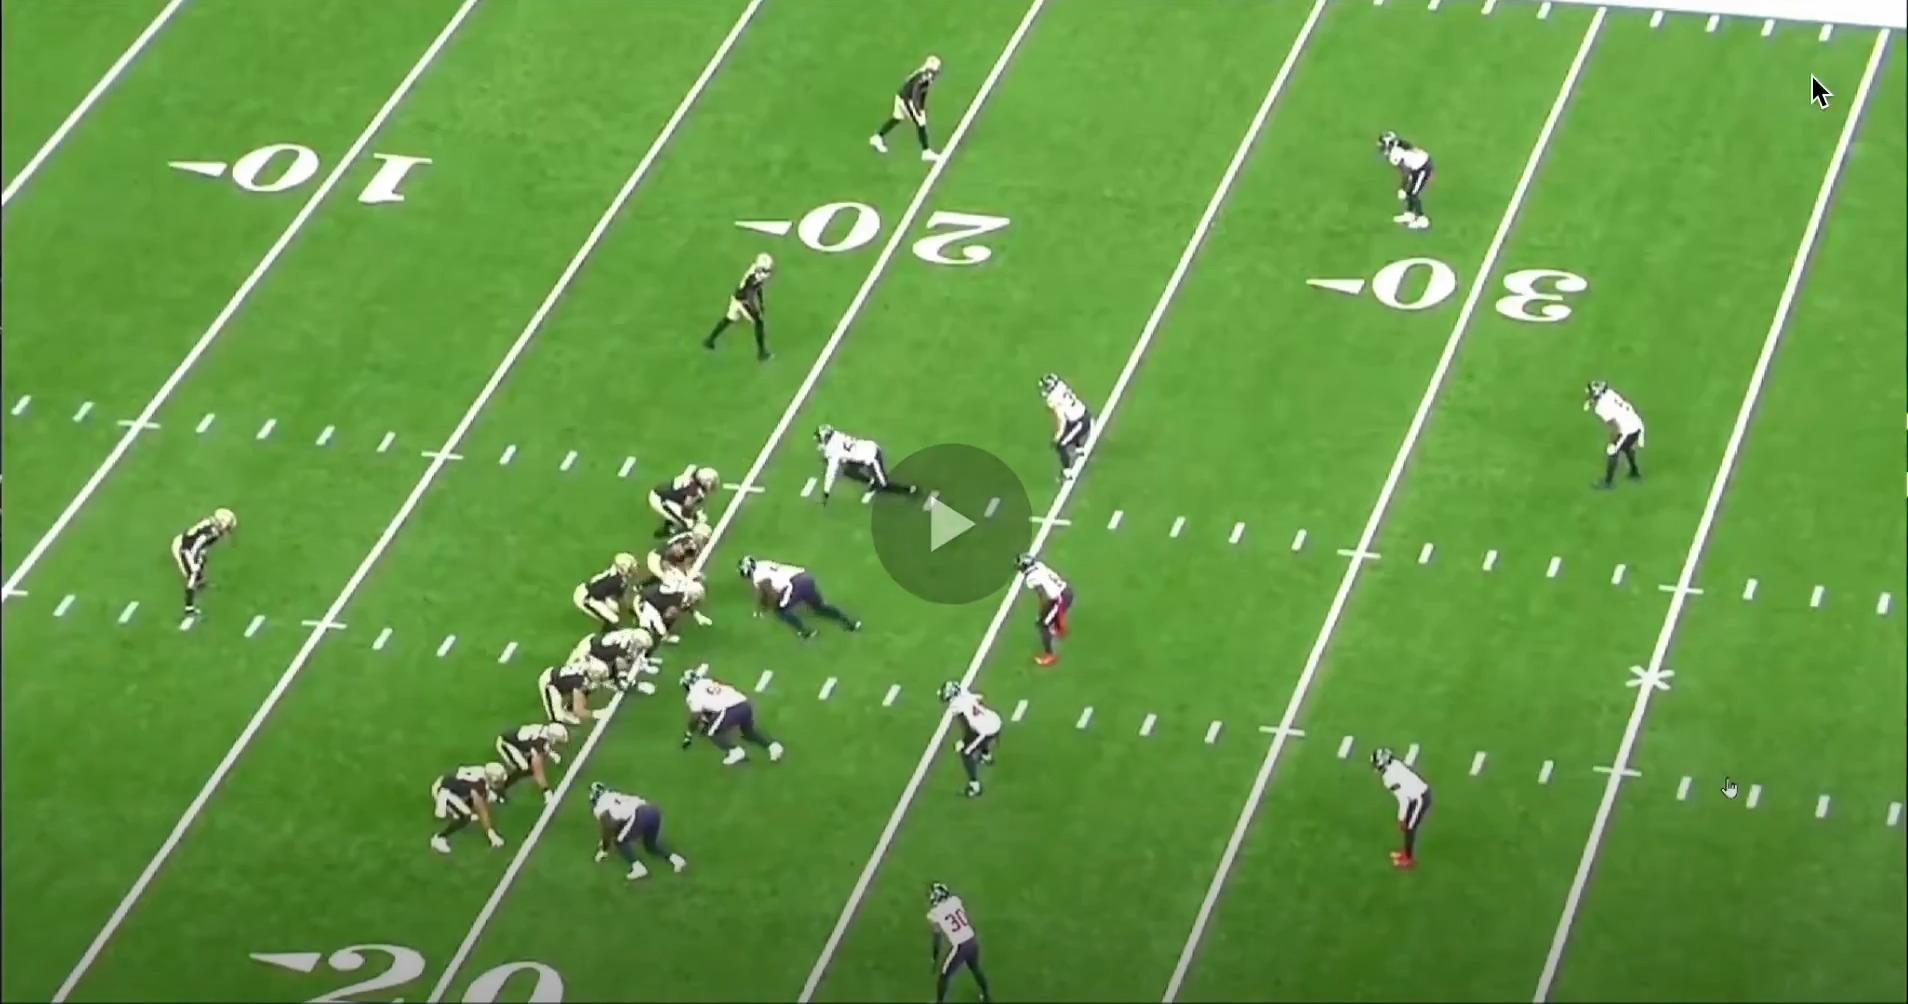player: (677, 668, 794, 774), (735, 553, 867, 644), (579, 780, 687, 890), (857, 50, 943, 168), (806, 420, 921, 508), (695, 250, 779, 370), (914, 882, 993, 1004), (1368, 747, 1437, 878), (419, 758, 504, 859), (162, 509, 234, 627), (648, 525, 724, 632), (942, 673, 1007, 798), (1575, 375, 1642, 496), (1014, 548, 1079, 671), (1044, 373, 1105, 494), (490, 715, 572, 802), (579, 625, 669, 703), (650, 464, 727, 549), (1380, 131, 1439, 238), (647, 572, 724, 645), (567, 550, 637, 629), (540, 659, 616, 729)
